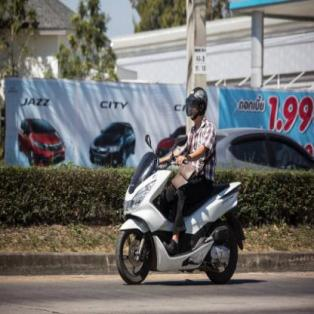Motocicleta: (116, 134, 240, 289)
